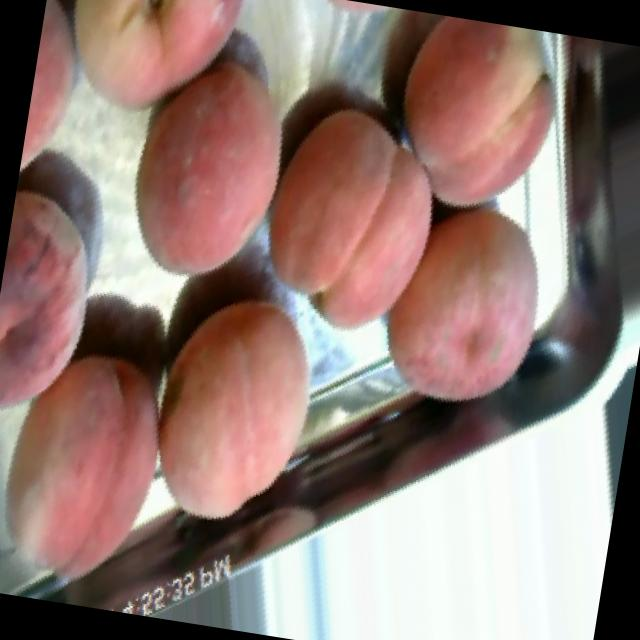Fruit: (122, 270, 357, 560), (248, 78, 472, 358), (354, 172, 586, 440), (0, 309, 195, 617), (96, 24, 308, 304), (366, 8, 584, 235), (0, 166, 137, 449), (28, 0, 273, 154)
